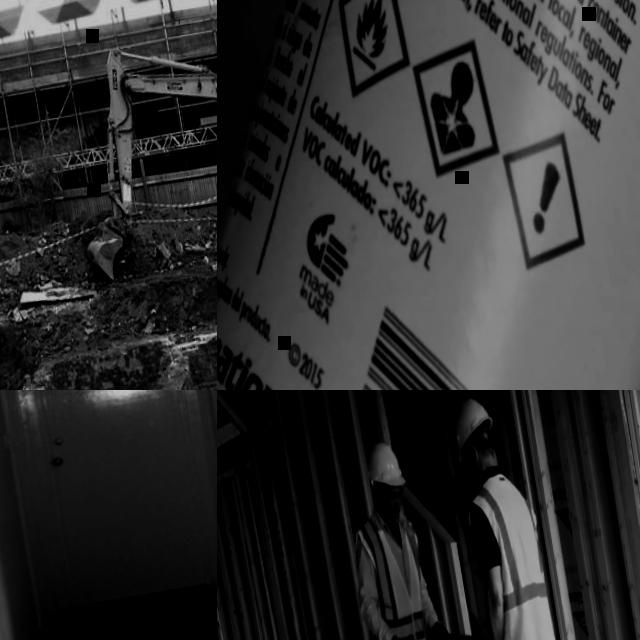Hardhat: (448, 394, 498, 463), (362, 438, 407, 493)
NO-Mask: (381, 505, 403, 528), (470, 458, 482, 488)
Person: (441, 390, 612, 640), (332, 433, 486, 640)
Safety Vest: (461, 468, 558, 640), (347, 507, 439, 640)
machinery: (56, 5, 217, 282)
